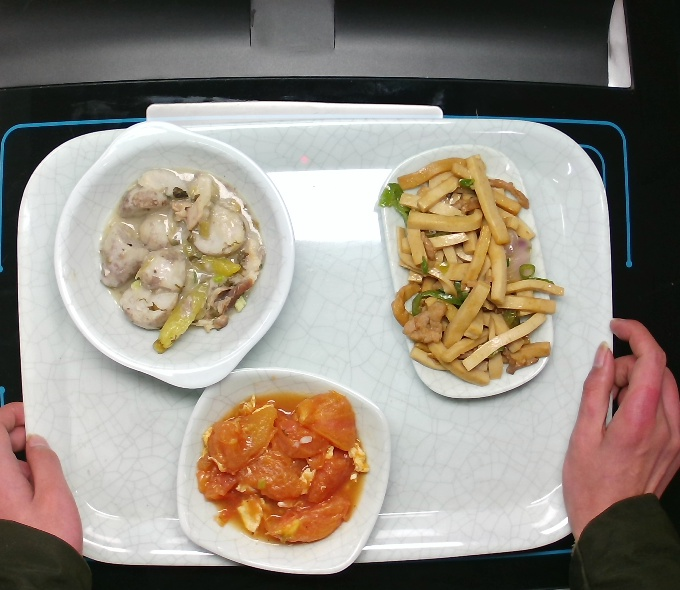wcq-FanQieChaoDan: (189, 381, 371, 549)
wcq-QianYeDouFu: (378, 151, 565, 385)
wcq-YangYu: (92, 166, 277, 357)
